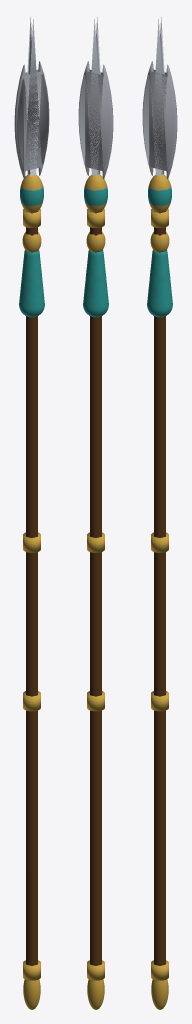
The model's file is spear.glb.
The picture shows the model from 3 angles, left to right: view 1: azimuth 30°, elevation 25°; view 2: azimuth 150°, elevation 25°; view 3: azimuth 330°, elevation 25°; orthographic projection.
Parts seen in each view (by area): view 1: spear; view 2: spear; view 3: spear.
Part boxes in pixels (x1=…): spear: x1=14, y1=17, x2=49, y2=1009; spear: x1=78, y1=17, x2=113, y2=1009; spear: x1=142, y1=17, x2=177, y2=1009.
Size of the model in its own units: 0.09 by 2.51 by 0.0587.
